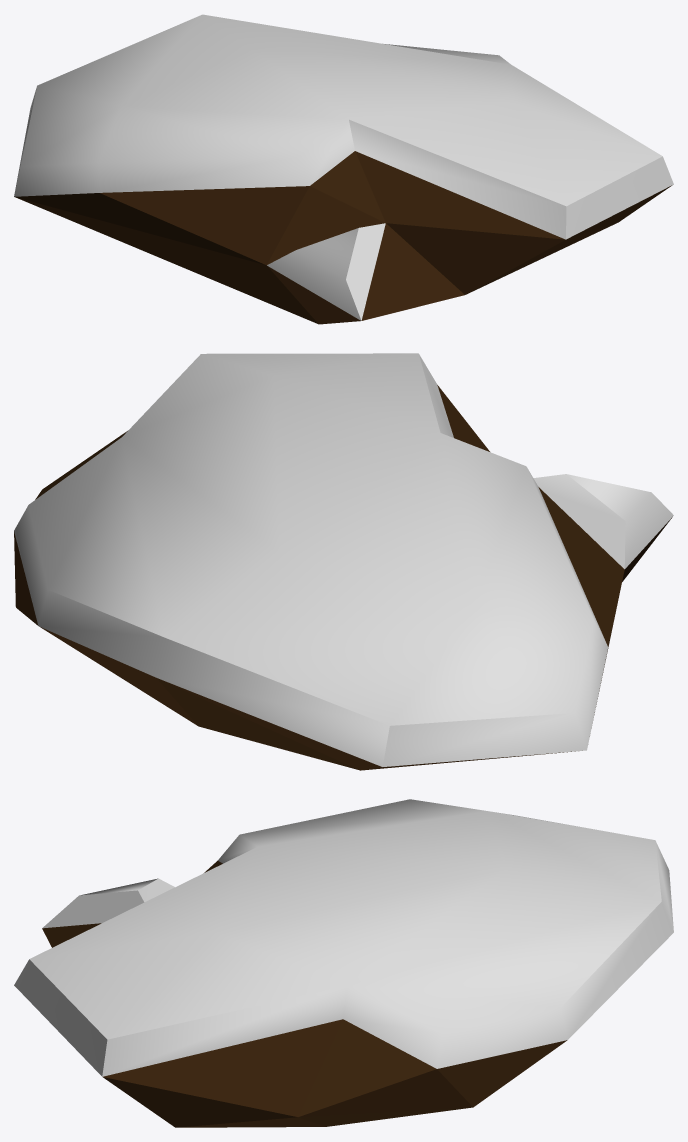
File: rock2.fbx
3 views of the same model, one above another, from view 1: azimuth 30°, elevation 25°; view 2: azimuth 150°, elevation 25°; view 3: azimuth 270°, elevation 25° (orthographic). The views are drawn at different scales.
Visible parts, largest first — view 1: merge6; view 2: merge6; view 3: merge6.
Boxes of the visible parts, bbox=[...] form: merge6: bbox=[14, 14, 673, 324]; merge6: bbox=[14, 353, 673, 770]; merge6: bbox=[14, 799, 673, 1127].
Size of the model in its own units: 2.49 by 0.8377 by 2.47.
